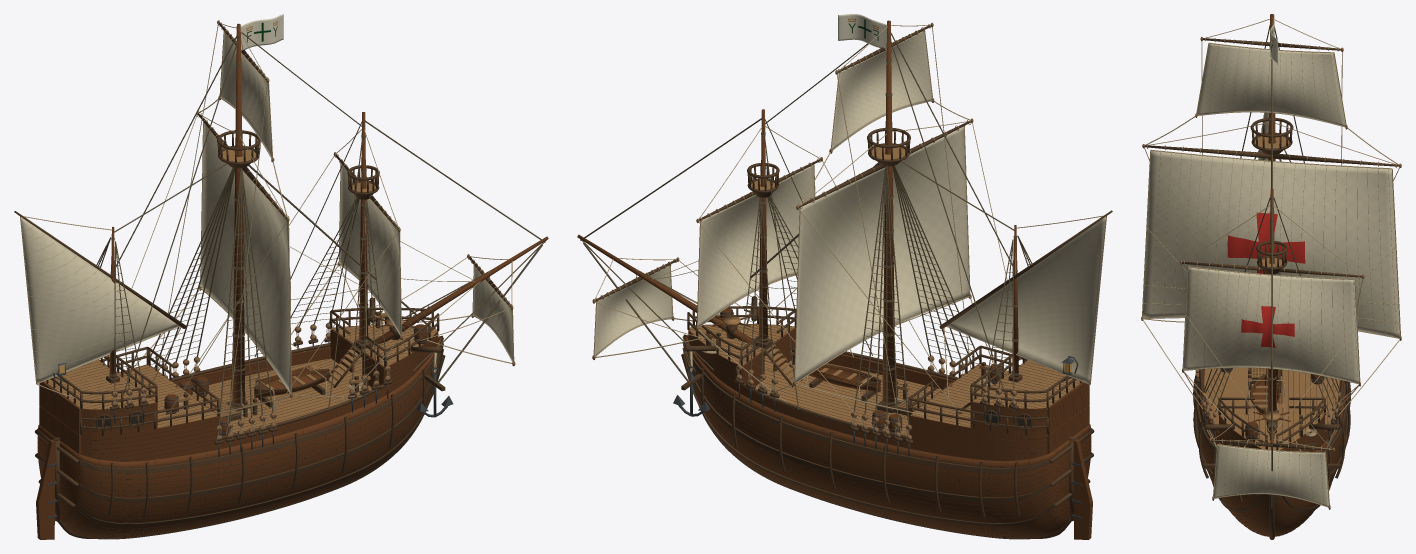
3 views of the same model, side by side, from view 1: azimuth 30°, elevation 25°; view 2: azimuth 150°, elevation 25°; view 3: azimuth 270°, elevation 25° (orthographic). The views are drawn at different scales.
Parts seen in each view (by area): view 1: SM | Rumpf | gekrümmte Karweelbeplankung, SM | Besansegel | Lateiner, SM | Grosssegel, SM | Beplankung | Laengsfugen, SM | Wanten | Grossmast, SM | Focksegel, SM | Achterkastell | Bordwand, SM | Hauptdeck, SM | Grossmast, SM | Grossmarssegel, SM | Deck | Plankenfugen, SM | Bergholz -1 2 (+39 smaller); view 2: SM | Grosssegel, SM | Rumpf | gekrümmte Karweelbeplankung, SM | Besansegel | Lateiner, SM | Focksegel, SM | Grossmarssegel, SM | Beplankung | Laengsfugen, SM | Wanten | Grossmast, SM | Achterkastell | Bordwand.001, SM | Hauptdeck, SM | Blinde, SM | Grossmast, SM | Deck | Plankenfugen (+38 smaller); view 3: SM | Grosssegel, SM | Focksegel, SM | Grossmarssegel, SM | Blinde, SM | Segel | Bahnennaehte, SM | Hauptdeck, SM | Rumpf | gekrümmte Karweelbeplankung, SM | Segel | Liektaue, SM | Grosssegel | rotes Kreuz, SM | Vorderkastell | Deck, SM | Beplankung | Laengsfugen, SM | Focksegel | rotes Kreuz (+23 smaller).
Boxes of the visible parts, box(x1,y1,x2,y2) form: SM | Rumpf | gekrümmte Karweelbeplankung: box(37, 335, 442, 538); SM | Besansegel | Lateiner: box(21, 217, 178, 383); SM | Grosssegel: box(200, 122, 290, 393); SM | Beplankung | Laengsfugen: box(61, 337, 442, 539); SM | Wanten | Grossmast: box(150, 167, 273, 425); SM | Focksegel: box(339, 163, 400, 335); SM | Achterkastell | Bordwand: box(81, 416, 218, 461); SM | Hauptdeck: box(192, 357, 371, 433); SM | Grossmast: box(232, 23, 245, 406); SM | Grossmarssegel: box(220, 32, 272, 157); SM | Deck | Plankenfugen: box(48, 326, 435, 432); SM | Bergholz -1 2: box(79, 337, 443, 473); SM | Grosssegel: box(795, 126, 969, 382); SM | Rumpf | gekrümmte Karweelbeplankung: box(683, 334, 1091, 539); SM | Besansegel | Lateiner: box(947, 216, 1105, 383); SM | Focksegel: box(697, 164, 814, 327); SM | Grossmarssegel: box(831, 30, 932, 149); SM | Beplankung | Laengsfugen: box(683, 336, 1068, 539); SM | Wanten | Grossmast: box(854, 165, 979, 424); SM | Achterkastell | Bordwand.001: box(909, 415, 1047, 460); SM | Hauptdeck: box(755, 356, 941, 435); SM | Blinde: box(594, 265, 672, 355); SM | Grossmast: box(882, 20, 895, 412); SM | Deck | Plankenfugen: box(690, 324, 1079, 434); SM | Grosssegel: box(1142, 150, 1399, 337); SM | Focksegel: box(1183, 267, 1359, 383); SM | Grossmarssegel: box(1197, 43, 1345, 126); SM | Blinde: box(1214, 445, 1328, 506); SM | Segel | Bahnennaehte: box(1153, 46, 1396, 505); SM | Hauptdeck: box(1204, 368, 1339, 424); SM | Rumpf | gekrümmte Karweelbeplankung: box(1197, 371, 1346, 536); SM | Segel | Liektaue: box(1142, 42, 1400, 507); SM | Grosssegel | rotes Kreuz: box(1227, 212, 1305, 274); SM | Vorderkastell | Deck: box(1220, 414, 1323, 450); SM | Beplankung | Laengsfugen: box(1196, 383, 1347, 536); SM | Focksegel | rotes Kreuz: box(1241, 306, 1294, 347).
Bounding box in the file's own units: 29.65 × 26.03 × 12.9.
12 materials, 4 textured.
